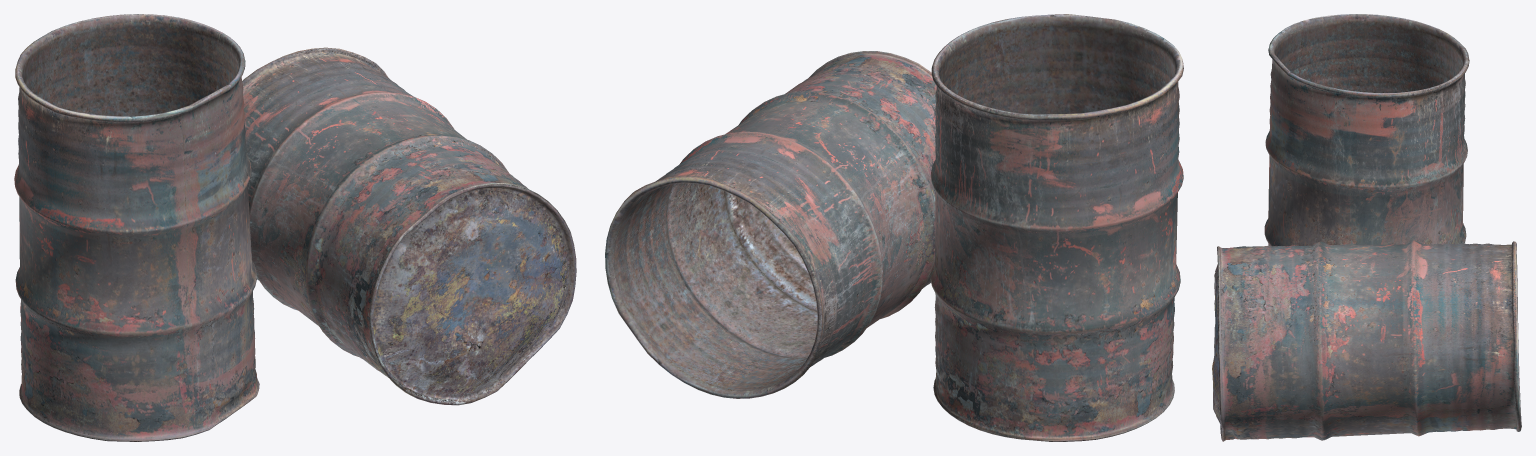
3 views of the same model, side by side, from view 1: azimuth 30°, elevation 25°; view 2: azimuth 150°, elevation 25°; view 3: azimuth 270°, elevation 25° (orthographic). The views are drawn at different scales.
Parts seen in each view (by area): view 1: sud_low, sud_low001; view 2: sud_low, sud_low001; view 3: sud_low001, sud_low.
Part boxes in pixels (x1=…): sud_low: x1=14, y1=14, x2=259, y2=441; sud_low001: x1=242, y1=47, x2=576, y2=405; sud_low: x1=930, y1=14, x2=1183, y2=441; sud_low001: x1=605, y1=51, x2=936, y2=398; sud_low001: x1=1212, y1=240, x2=1521, y2=441; sud_low: x1=1264, y1=14, x2=1469, y2=246.
Size of what is drawn, in the model's own units: 1.35 by 0.9372 by 0.9339.
1 material, 1 textured.
